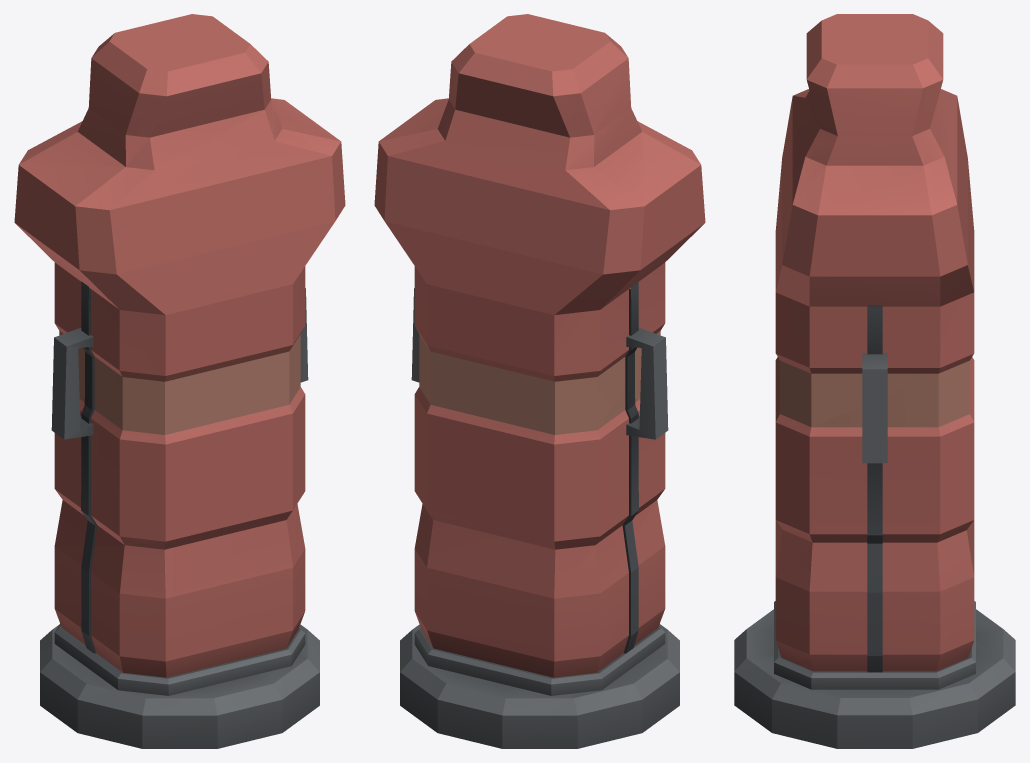
File: dummy.glb
The picture shows the model from 3 angles, left to right: view 1: azimuth 30°, elevation 25°; view 2: azimuth 150°, elevation 25°; view 3: azimuth 270°, elevation 25°; orthographic projection.
Visible parts, largest first — view 1: dummy; view 2: dummy; view 3: dummy.
Part boxes in pixels (left/top/right/bottom): dummy: left=14, top=14, right=345, bottom=748; dummy: left=374, top=14, right=705, bottom=748; dummy: left=734, top=14, right=1015, bottom=748.
Bounding box in the file's own units: 0.8043 × 1.87 × 0.7331.
